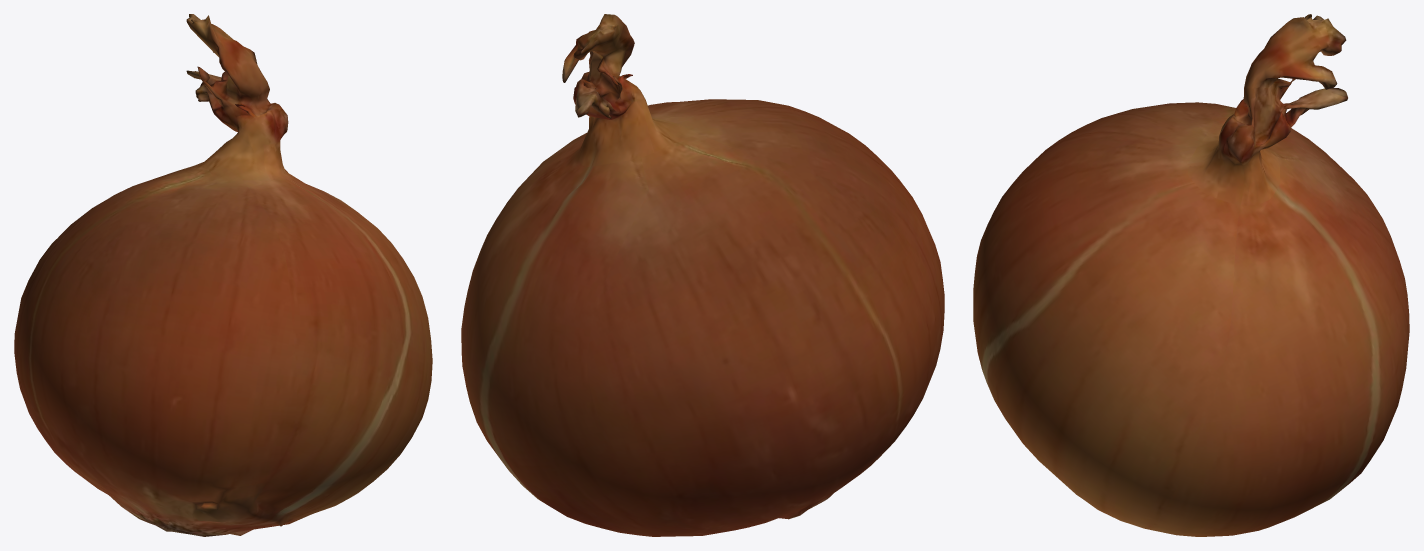
File: yellow_onion.glb
3 renders of one model, left to right at view 1: azimuth 30°, elevation 25°; view 2: azimuth 150°, elevation 25°; view 3: azimuth 270°, elevation 25°, orthographic. The views are drawn at different scales.
Parts seen in each view (by area): view 1: yellow_onion; view 2: yellow_onion; view 3: yellow_onion.
Boxes of the visible parts, x1,y1,x2,y2 form: yellow_onion: (14, 14, 432, 536); yellow_onion: (461, 14, 944, 536); yellow_onion: (973, 14, 1409, 536).
Size of the model in its own units: 0.0725 by 0.0864 by 0.0686.
Materials: 1 (1 with a texture image).
